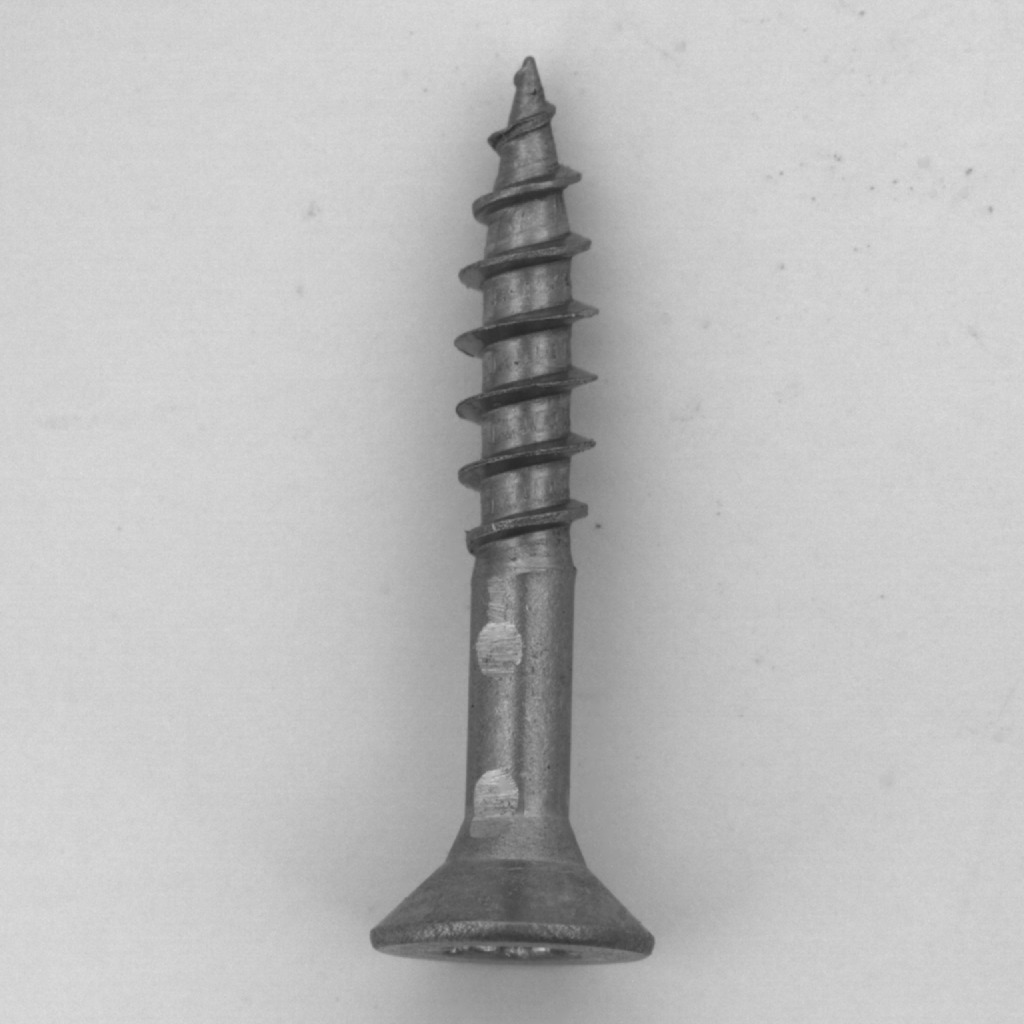scratch_neck: (390, 579, 643, 849)
